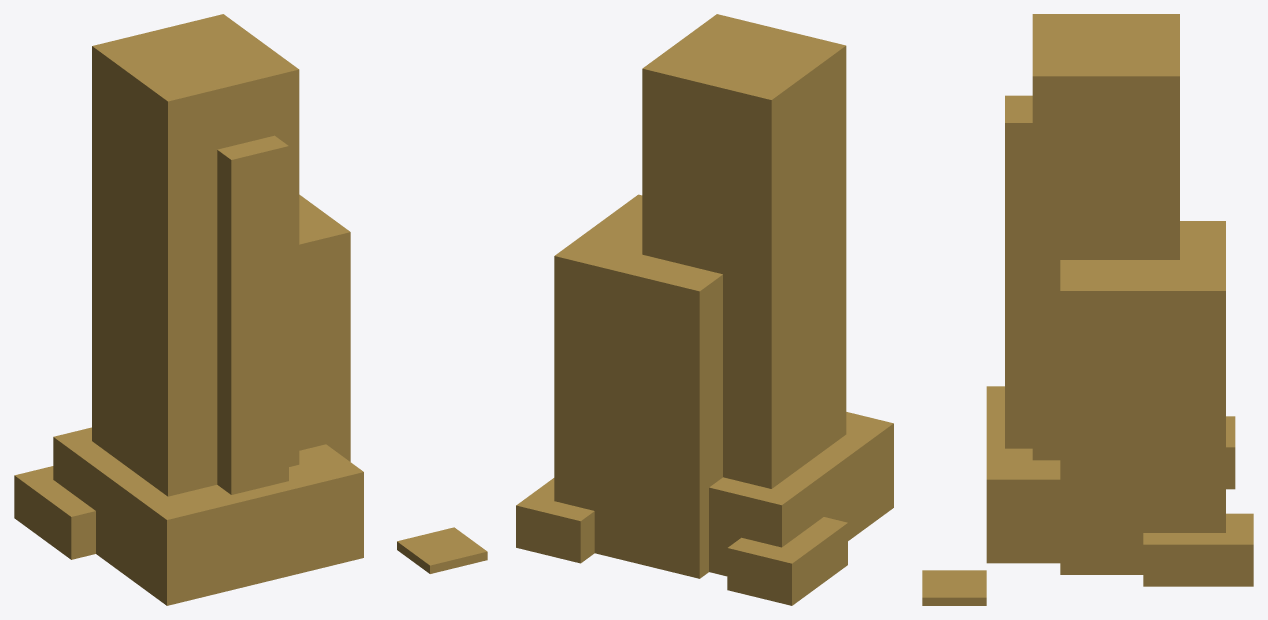
Rendered from rocks.gltf.
3 views of the same model, side by side, from view 1: azimuth 30°, elevation 25°; view 2: azimuth 150°, elevation 25°; view 3: azimuth 270°, elevation 25° (orthographic). The views are drawn at different scales.
Visible parts, largest first — view 1: cube (×6); view 2: cube (×5); view 3: cube (×7).
Part boxes in pixels (x1,y1,x2,y2): cube (×6): (14,14,487,605); cube (×5): (516,14,893,605); cube (×7): (922,14,1253,605).
Bounding box in the file's own units: 2.38 × 3.5 × 2.25.
1 material, 1 textured.
